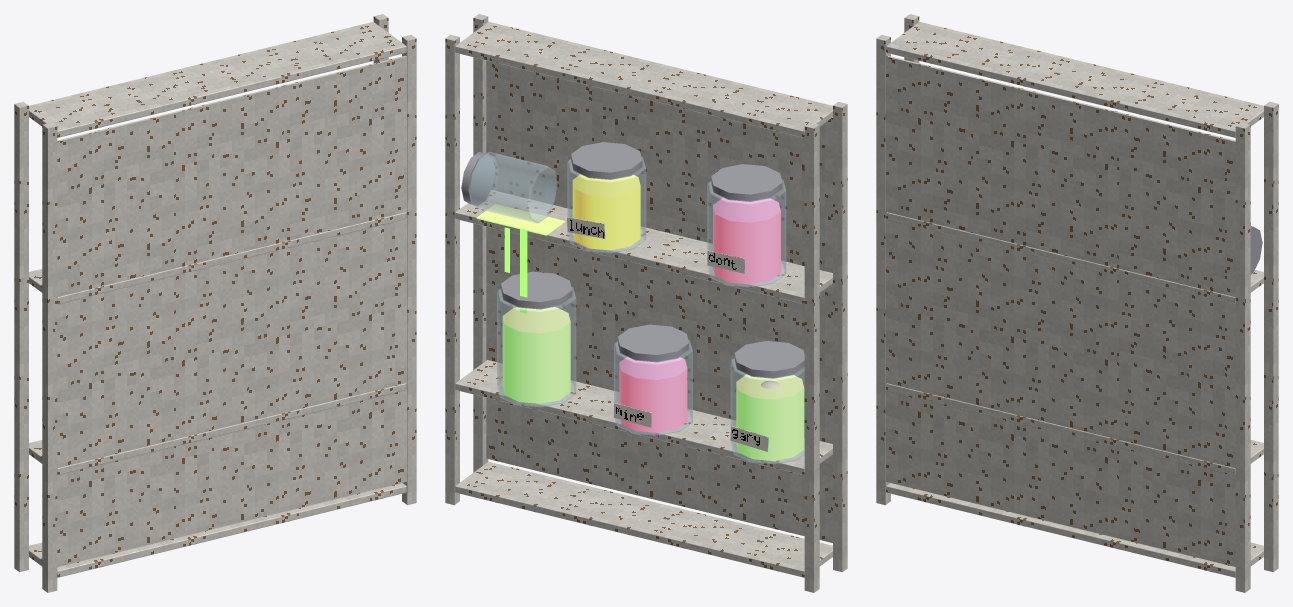
Rendered from s_jar_shelf.glb.
3 renders of one model, left to right at view 1: azimuth 30°, elevation 25°; view 2: azimuth 150°, elevation 25°; view 3: azimuth 330°, elevation 25°, orthographic.
Parts seen in each view (by area): view 1: s_jar_shelf_mesh; view 2: s_jar_shelf_mesh; view 3: s_jar_shelf_mesh.
Part boxes in pixels (box(x1,y1,x2,y2)): s_jar_shelf_mesh: box(14, 14, 416, 592); s_jar_shelf_mesh: box(445, 14, 847, 592); s_jar_shelf_mesh: box(876, 14, 1278, 592).
Size of what is drawn, in the model's own units: 1.58 by 1.9 by 0.3145.
10 materials, 6 textured.
